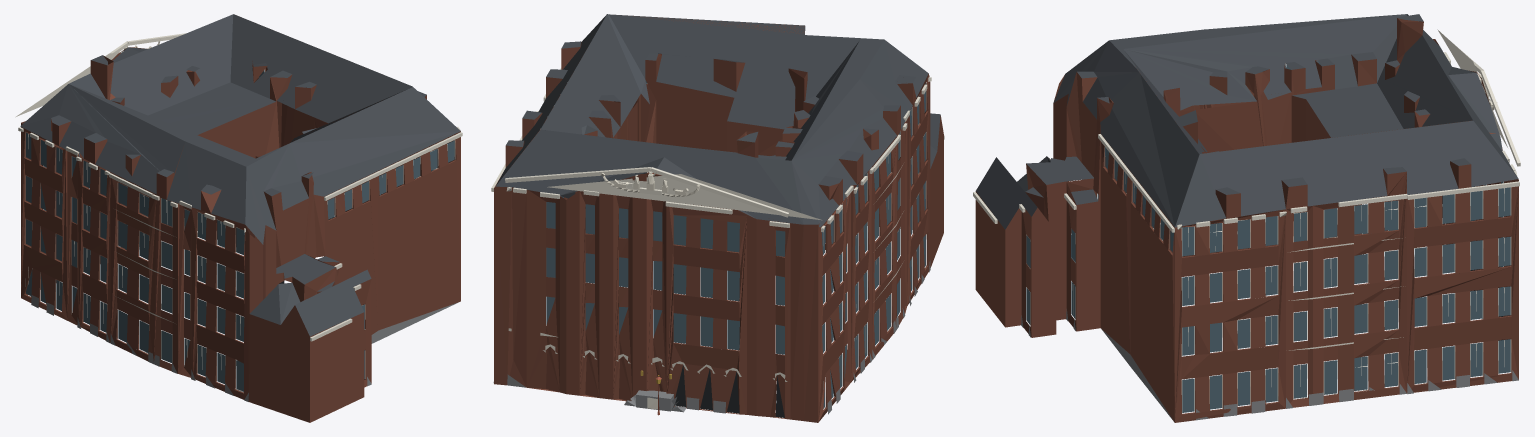
File: maagdenhuis.lod1.glb
3 renders of one model, left to right at view 1: azimuth 30°, elevation 25°; view 2: azimuth 150°, elevation 25°; view 3: azimuth 270°, elevation 25°, orthographic. The views are drawn at different scales.
Parts seen in each view (by area): view 1: maagdenhuis; view 2: maagdenhuis; view 3: maagdenhuis.
Part boxes in pixels (x1,y1,x2,y2): maagdenhuis: [15, 14, 462, 422]; maagdenhuis: [491, 14, 944, 422]; maagdenhuis: [973, 14, 1520, 422].
Bounding box in the file's own units: 45.6 × 29.78 × 56.47.
